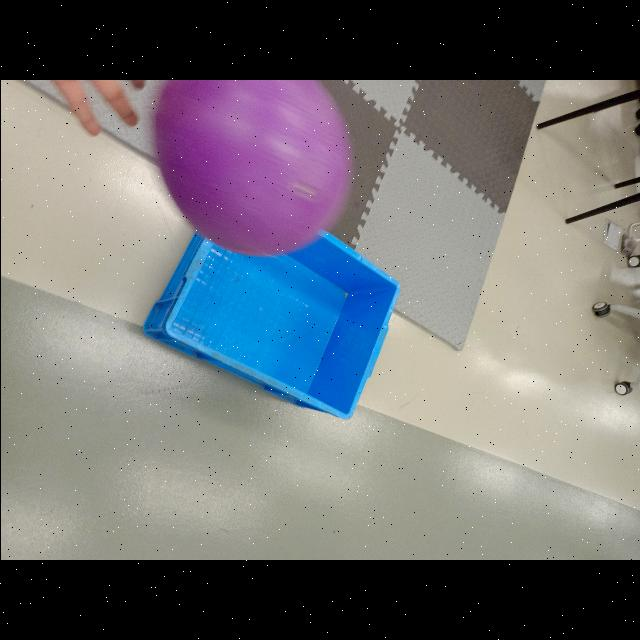P: (152, 80, 352, 256)
